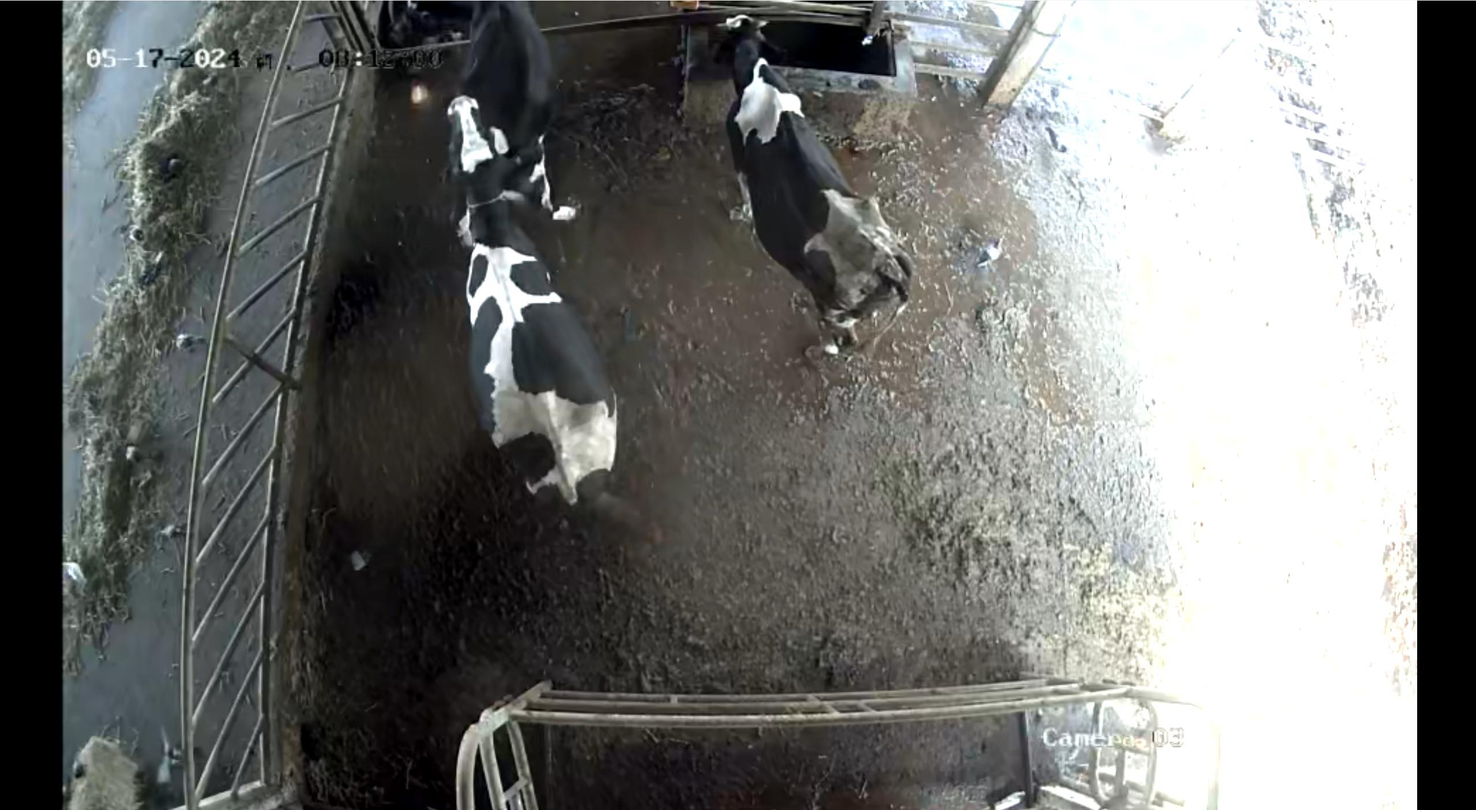drink: (697, 6, 808, 141)
propping: (438, 84, 540, 235)
stand: (382, 0, 580, 182)
